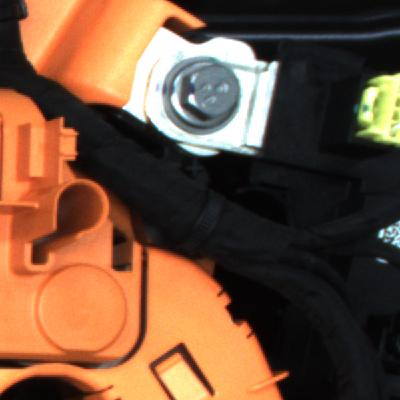nut_b: (156, 55, 265, 131)
